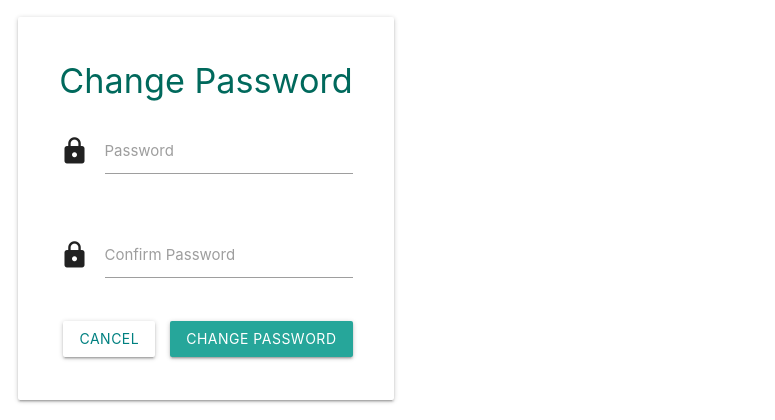
Test case: ChangePassword Form › displays a toast message if the password is changed
Type "correctpassword" into the password field labelled "Password".
click(228, 151); type("correctpassword")  # box [104, 128, 352, 174]
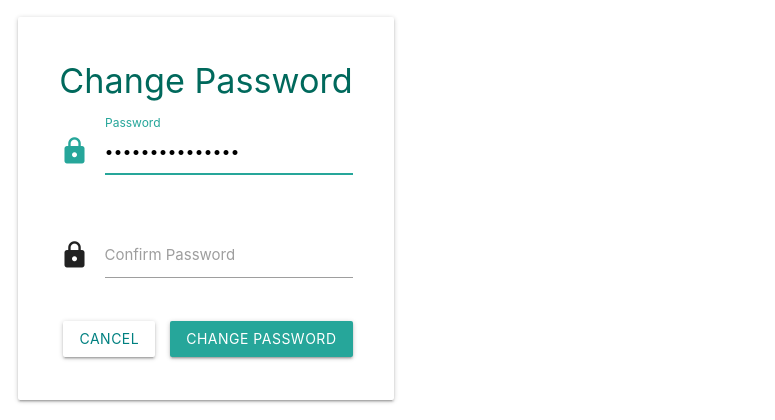
Type "correctpassword" into the password field labelled "Confirm Password".
click(228, 255); type("correctpassword")  # box [104, 232, 352, 278]
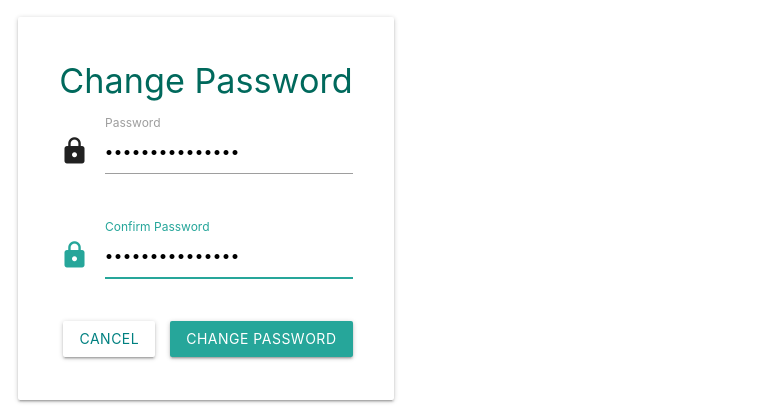
Click the button with test id "submit-btn".
click(261, 339)  # box [170, 321, 352, 357]
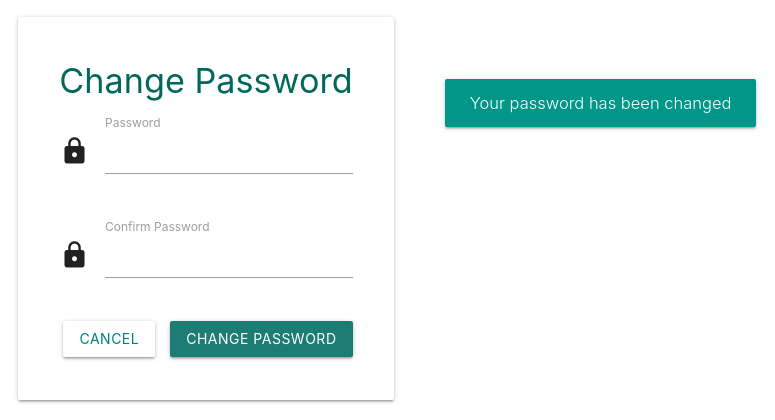
Check: the text "Your password has been changed" is shown, box [445, 79, 756, 127]
